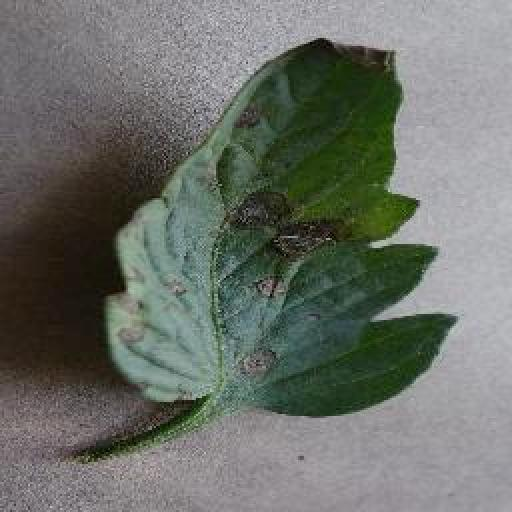disease_tomato: (104, 38, 458, 420)
